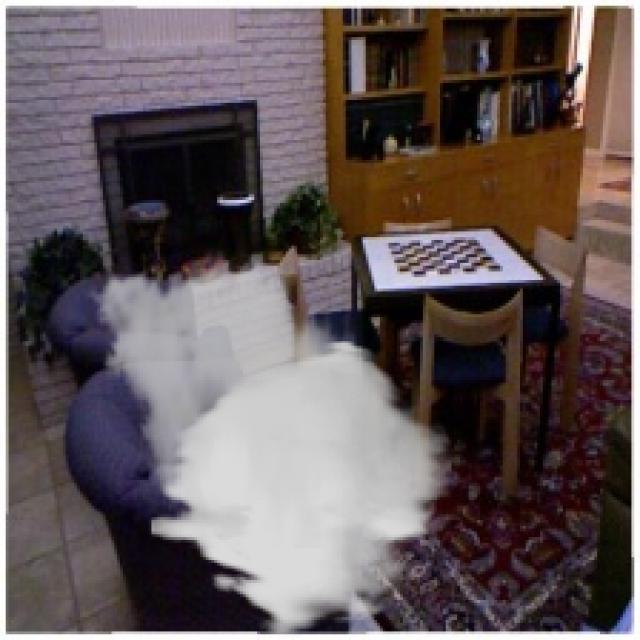smoke: (80, 249, 451, 637)
